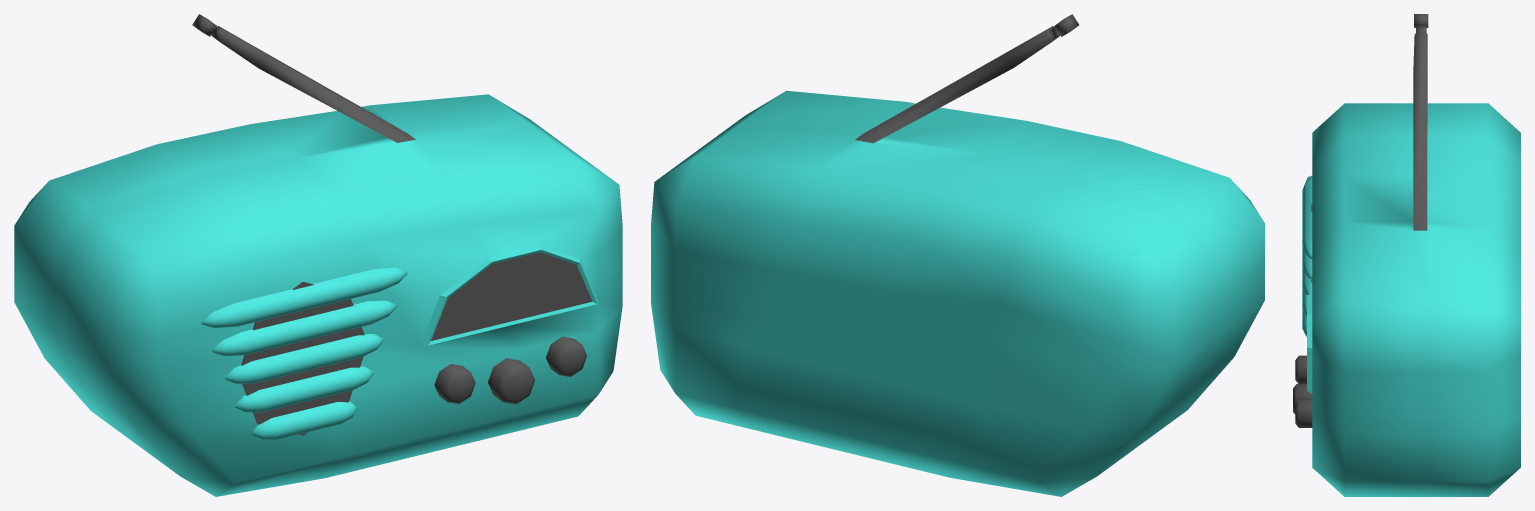
Rendered from Radio.fbx.
The picture shows the model from 3 angles, left to right: view 1: azimuth 30°, elevation 25°; view 2: azimuth 150°, elevation 25°; view 3: azimuth 270°, elevation 25°; orthographic projection. The views are drawn at different scales.
Visible parts, largest first — view 1: Cube.364; view 2: Cube.364; view 3: Cube.364.
Part boxes in pixels (x1,y1,x2,y2): Cube.364: [14, 14, 622, 496]; Cube.364: [651, 14, 1264, 496]; Cube.364: [1293, 14, 1520, 496].
Size of the model in its own units: 407 by 333 by 193.
